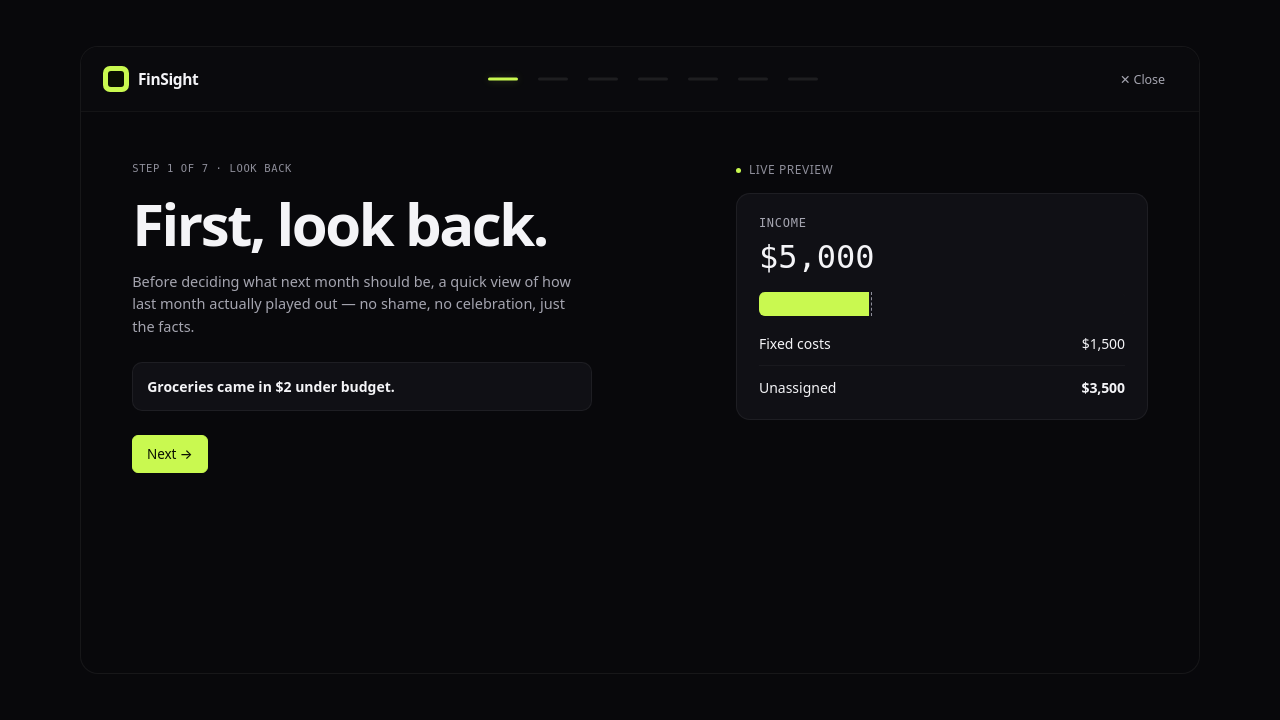
PlanNextMonthModal › navigates to the Fixed costs step on Next click
This screenshot has width=1280, height=720.
Click the button "Next →".
click(170, 454)  # box [132,435,208,473]
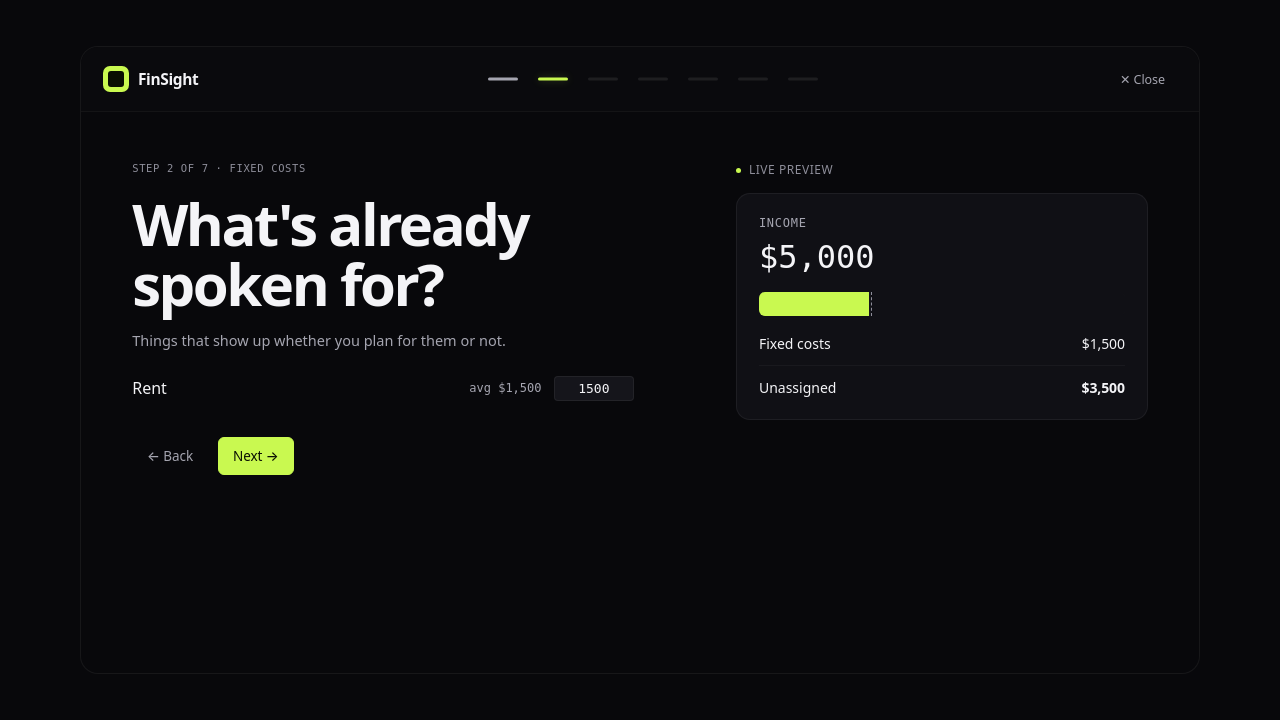
Check: the heading "What's already spoken for?" is shown, box [132,184,528,323]
Check: the text "Step 2 of 7 · Fixed costs" is shown, box [132,162,306,174]
